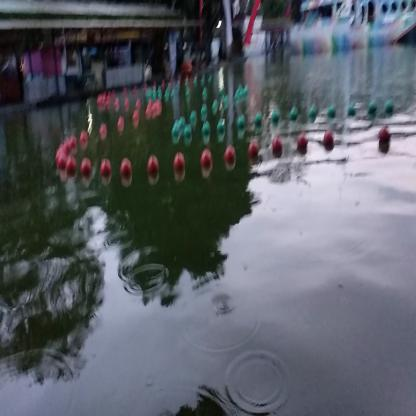green_buoy: (172, 122, 181, 145), (253, 110, 264, 126), (290, 104, 299, 123), (216, 120, 227, 135), (203, 119, 210, 142), (308, 106, 317, 122), (368, 99, 376, 116), (328, 104, 336, 119), (184, 128, 192, 143), (272, 110, 281, 123), (237, 116, 244, 132), (347, 107, 354, 119), (386, 100, 392, 113)
red_buoy: (172, 156, 186, 182), (146, 158, 160, 184), (376, 127, 391, 150), (120, 157, 134, 181), (201, 150, 212, 178), (80, 159, 94, 181), (99, 160, 112, 182), (225, 143, 235, 171), (272, 136, 282, 162), (324, 133, 335, 154), (248, 144, 259, 165), (298, 135, 308, 156), (59, 142, 70, 158), (66, 160, 77, 176), (78, 131, 88, 148), (57, 155, 67, 172), (99, 123, 107, 140), (118, 115, 125, 132)
